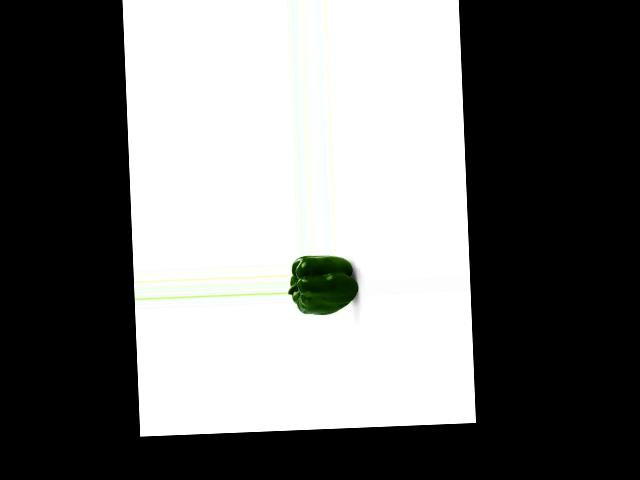bell_pepper: (288, 252, 357, 317)
